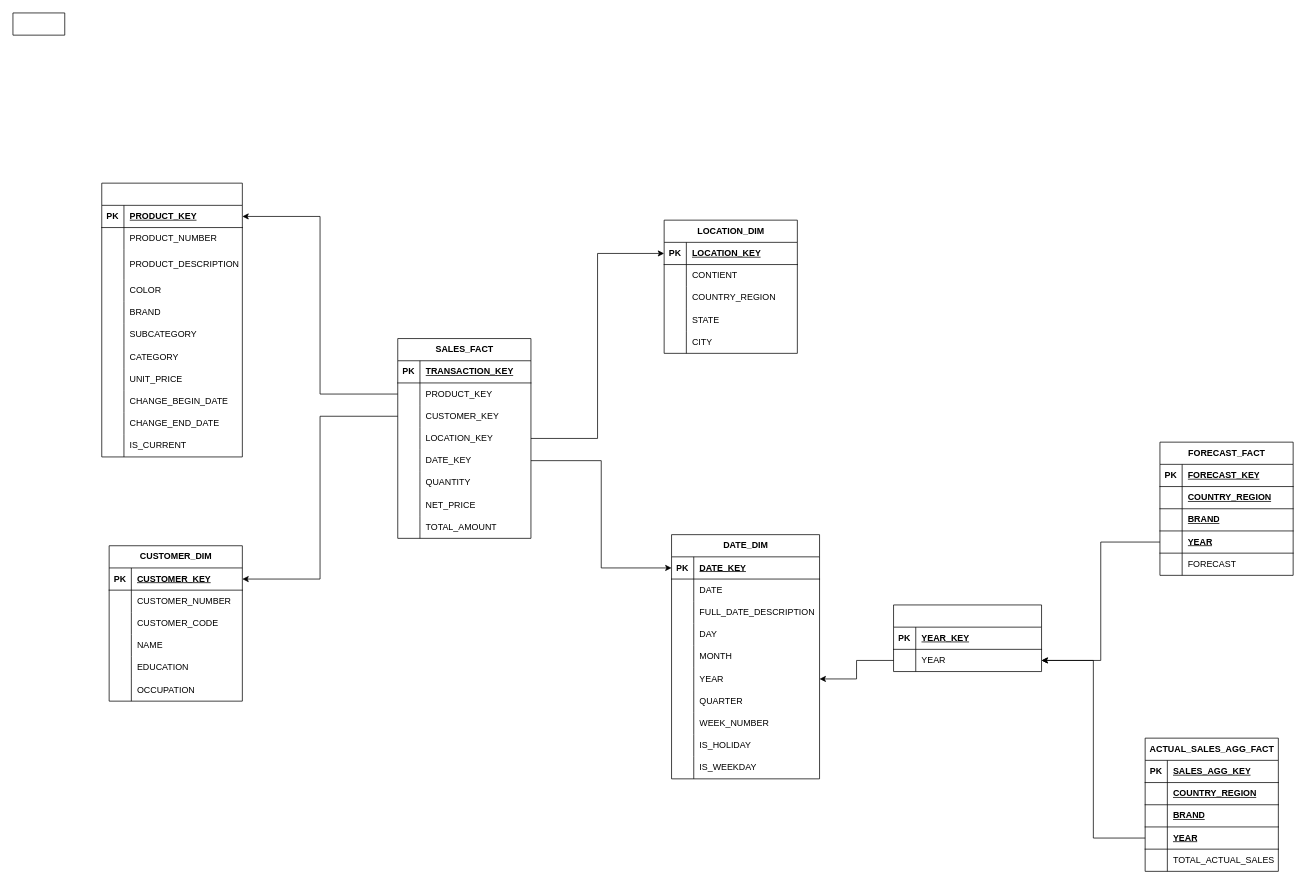
Image size: 1306x884. Some labels were removed from this diagram. The shapes that lost their labels are listed below. From the top down, each one's box as (x1, y1, x2, y2) in pixels, then its label:
(12, 12, 65, 35): Table
(101, 182, 242, 457): PRODUCT_DIM
(893, 604, 1042, 672): YEAR_DIM
